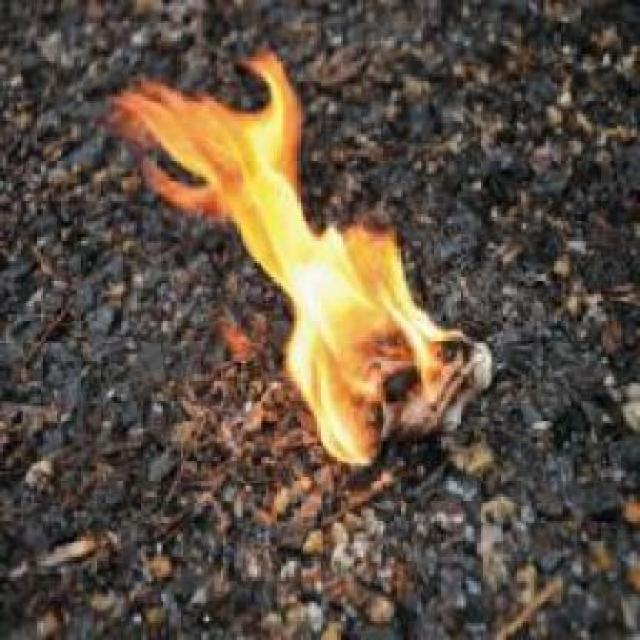Fire: (111, 50, 460, 473)
